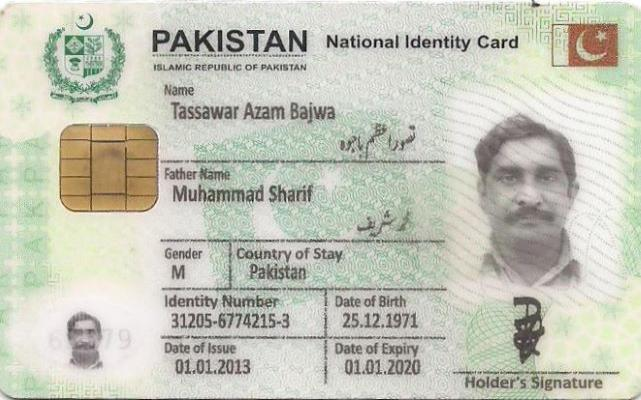fname: (169, 181, 318, 208)
name: (168, 98, 338, 125)
number: (169, 308, 294, 334)
